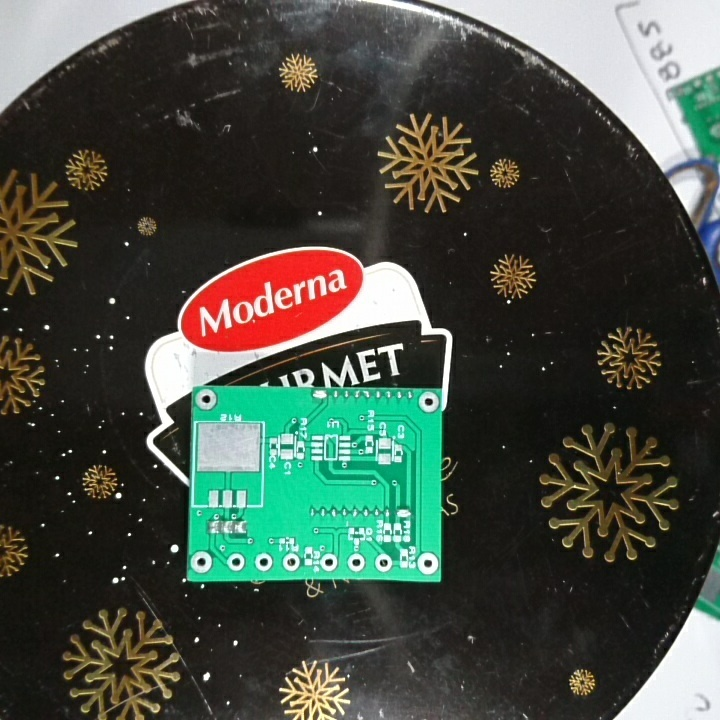F: (415, 549, 440, 576), (194, 387, 219, 413), (190, 551, 215, 575), (418, 391, 440, 415), (345, 552, 368, 574), (253, 551, 274, 574), (373, 552, 394, 574), (318, 552, 339, 572), (225, 552, 246, 572), (279, 552, 300, 570)
P: (395, 506, 414, 520), (311, 388, 330, 401)
